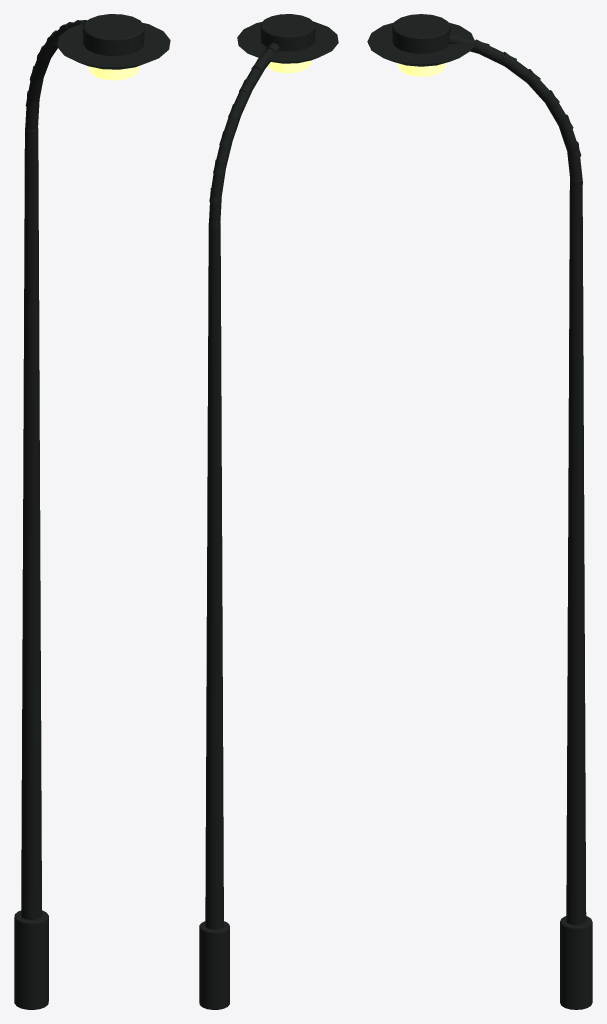
The model's file is laterne.glb.
The picture shows the model from 3 angles, left to right: view 1: azimuth 30°, elevation 25°; view 2: azimuth 150°, elevation 25°; view 3: azimuth 270°, elevation 25°; orthographic projection. The views are drawn at different scales.
Visible parts, largest first — view 1: Cone, Cylinder, Cone.001, Cylinder.009, Leuchtwanne, Cylinder.001; view 2: Cone, Cylinder, Cone.001, Cylinder.009, Cylinder.001, Cylinder.003, Cylinder.002, Leuchtwanne, Cylinder.004, Cylinder.005, Cylinder.006; view 3: Cone, Cylinder, Cone.001, Cylinder.009.
Boxes of the visible parts, x1,y1,x2,y2 form: Cone: [21, 128, 41, 919]; Cylinder: [14, 910, 48, 1009]; Cone.001: [57, 23, 170, 69]; Cylinder.009: [83, 14, 144, 55]; Leuchtwanne: [87, 65, 139, 80]; Cylinder.001: [25, 90, 39, 130]; Cone: [205, 223, 223, 929]; Cylinder: [199, 921, 229, 1009]; Cone.001: [237, 21, 338, 63]; Cylinder.009: [260, 14, 315, 51]; Cylinder.001: [209, 188, 221, 231]; Cylinder.003: [213, 131, 234, 175]; Cylinder.002: [209, 160, 226, 203]; Leuchtwanne: [267, 60, 311, 73]; Cylinder.004: [219, 104, 243, 147]; Cylinder.005: [228, 79, 254, 120]; Cylinder.006: [239, 57, 268, 95]; Cone: [566, 178, 586, 924]; Cylinder: [560, 916, 592, 1009]; Cone.001: [367, 22, 474, 66]; Cylinder.009: [392, 14, 450, 53].
Size of the model in its own units: 0.5934 by 5.92 by 1.24.
